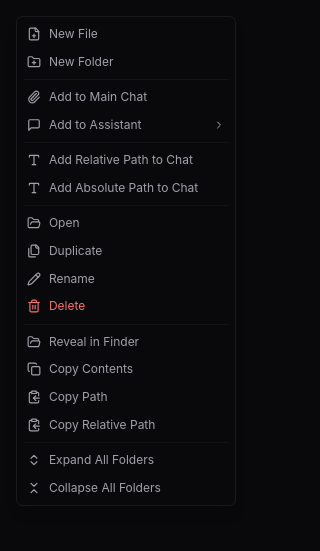
Test: FileTreeContextMenu › file context menu › expands assistant list on click
This screenshot has width=320, height=551.
# Click "Add to Assistant" to expand
Click the button "Add to Assistant" at (126, 125), box [17, 111, 235, 139]
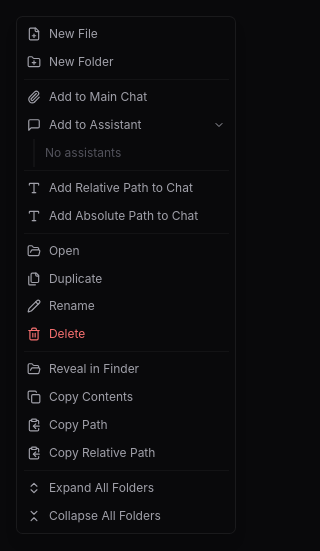
Check: the text "No assistants" is shown, box [45, 145, 121, 160]
